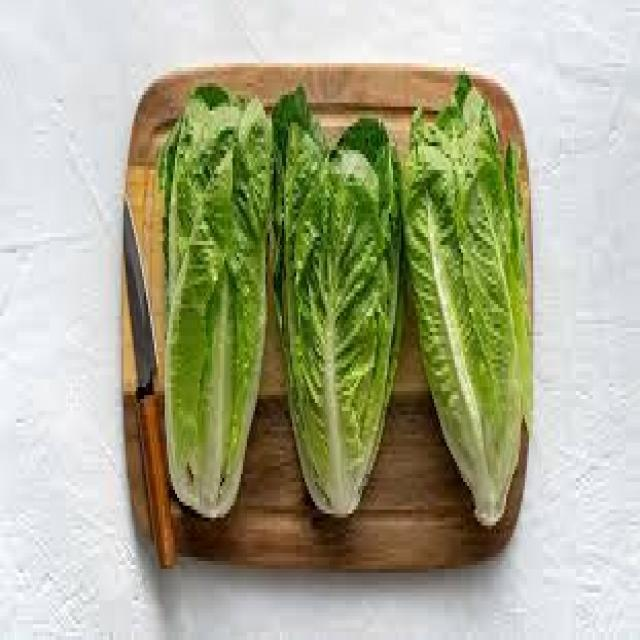Lettuce: (152, 88, 276, 535), (408, 68, 524, 530), (274, 97, 394, 525)
